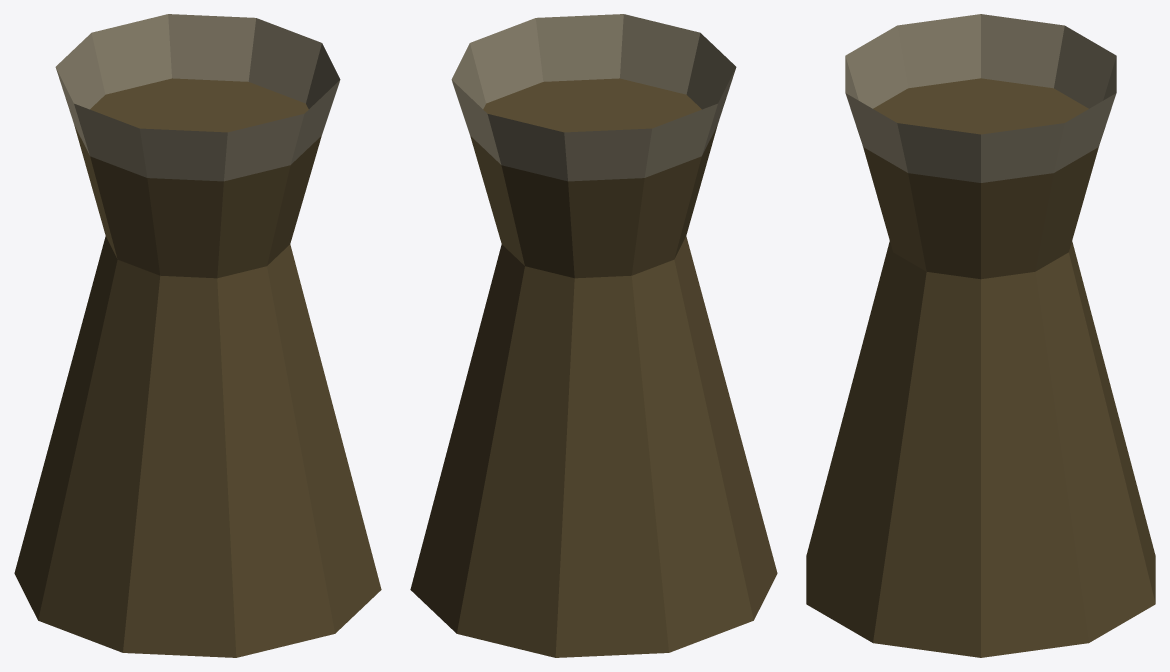
Rendered from NW_MISC_STRAW_02.OBJ.
3 renders of one model, left to right at view 1: azimuth 30°, elevation 25°; view 2: azimuth 150°, elevation 25°; view 3: azimuth 270°, elevation 25°, orthographic.
Visible parts, largest first — view 1: NW_MISC_STRAW_02; view 2: NW_MISC_STRAW_02; view 3: NW_MISC_STRAW_02.
Boxes of the visible parts, <box> form: NW_MISC_STRAW_02: <box>14,14,381,657</box>; NW_MISC_STRAW_02: <box>410,14,777,657</box>; NW_MISC_STRAW_02: <box>806,14,1155,657</box>.
Size of the model in its own units: 1.22 by 1.86 by 1.16.
